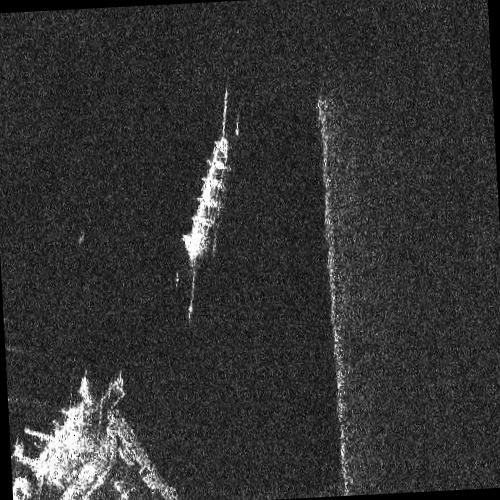ship: (180, 134, 229, 261)
